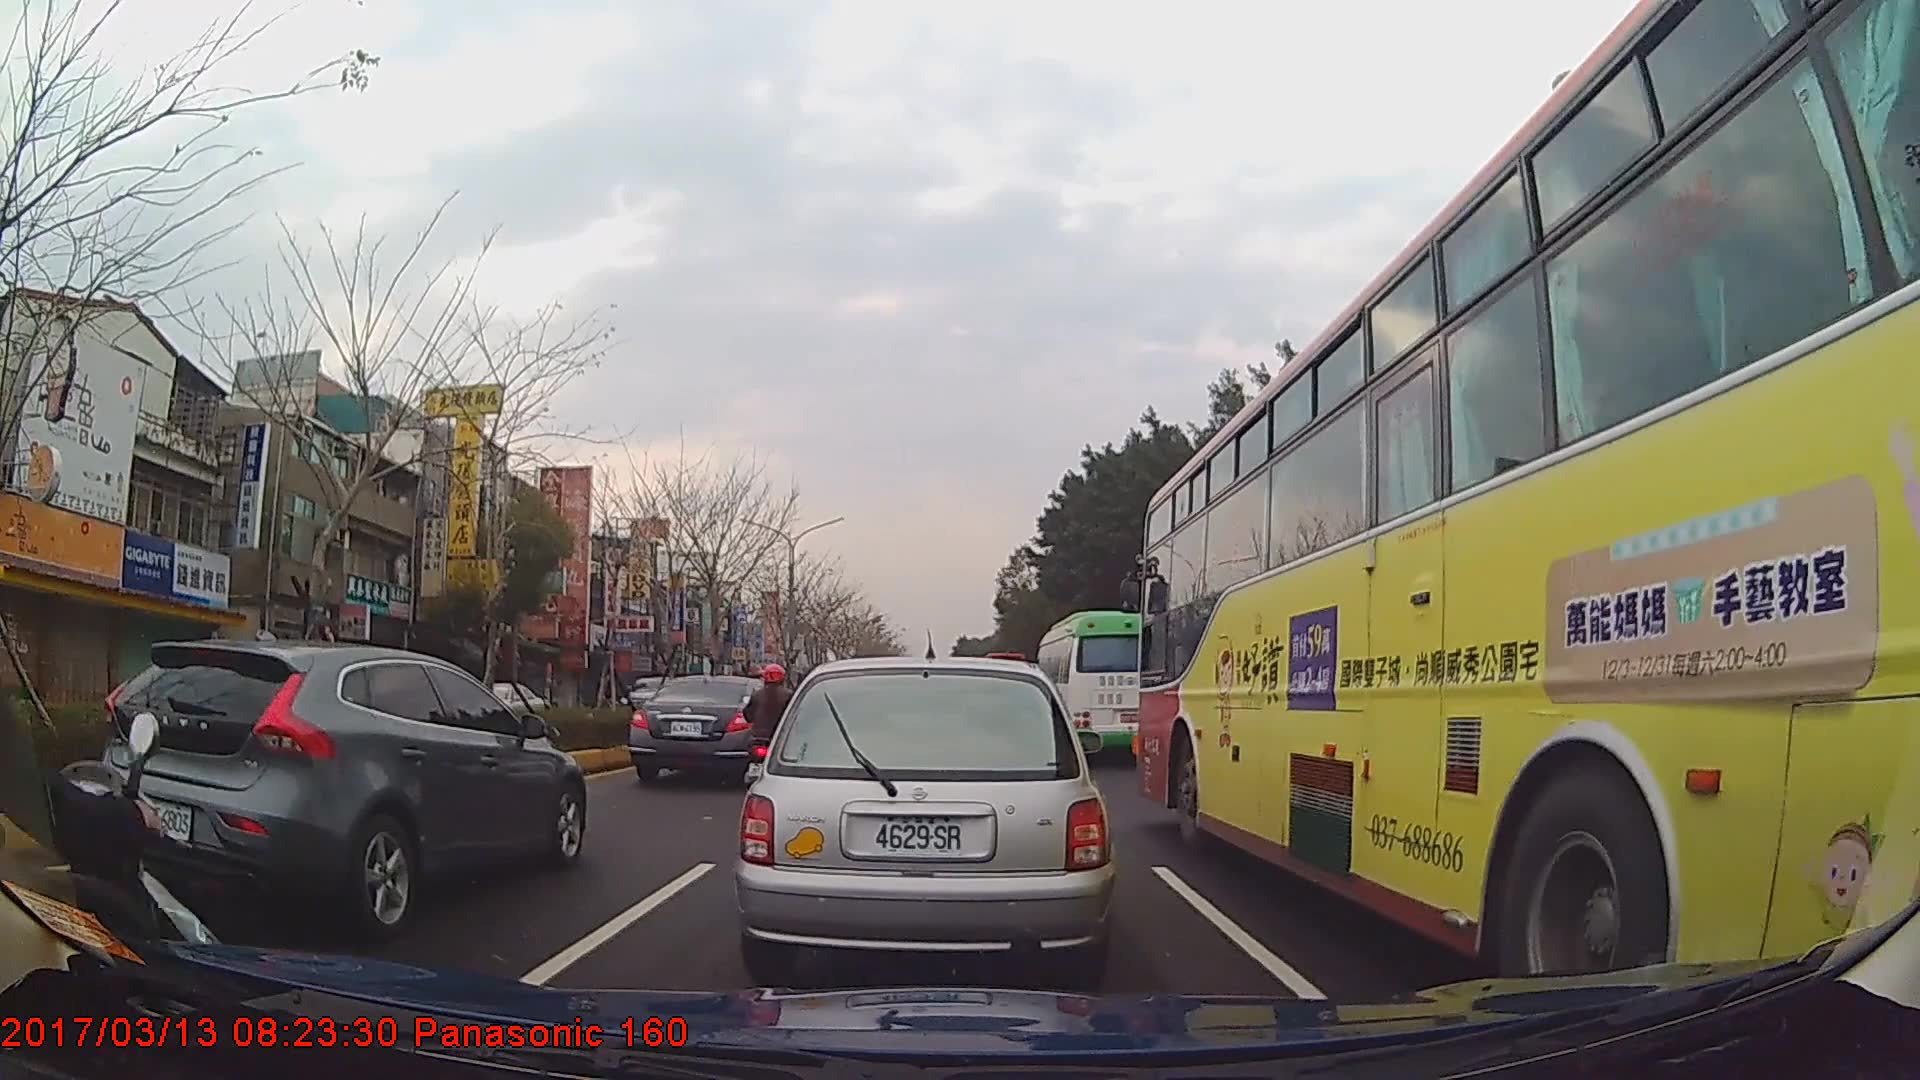rider: (1, 431, 219, 1018), (744, 664, 804, 804)
vehicle: (1135, 0, 1919, 1033), (93, 635, 586, 925), (733, 652, 1113, 981), (1034, 608, 1173, 769), (629, 673, 788, 788), (457, 680, 544, 731)
